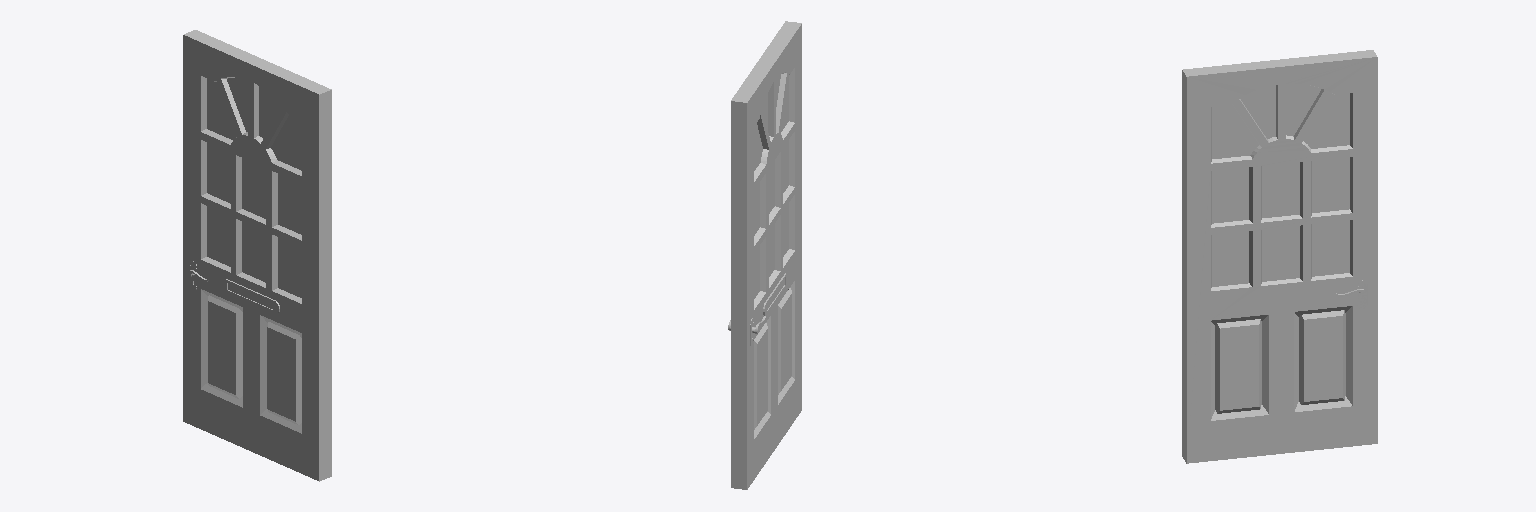
The model's file is door_000006.obj.
3 views of the same model, side by side, from view 1: azimuth 30°, elevation 25°; view 2: azimuth 150°, elevation 25°; view 3: azimuth 270°, elevation 25° (orthographic).
Visible parts, largest first — view 1: Door.003; view 2: Door.003; view 3: Door.003.
Boxes of the visible parts, <box> form: Door.003: <box>183,30,331,481</box>; Door.003: <box>728,21,801,489</box>; Door.003: <box>1182,50,1377,463</box>.
Size of the model in its own units: 0.2532 by 1.6 by 0.7336.